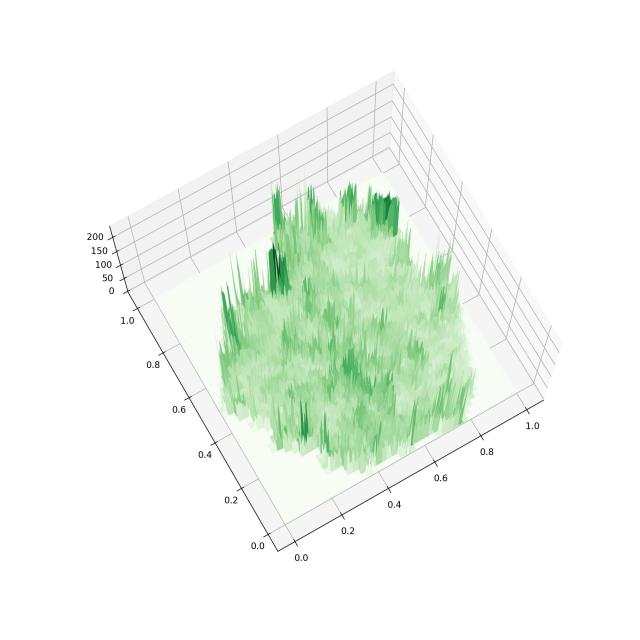fir: (71, 48, 584, 591)
